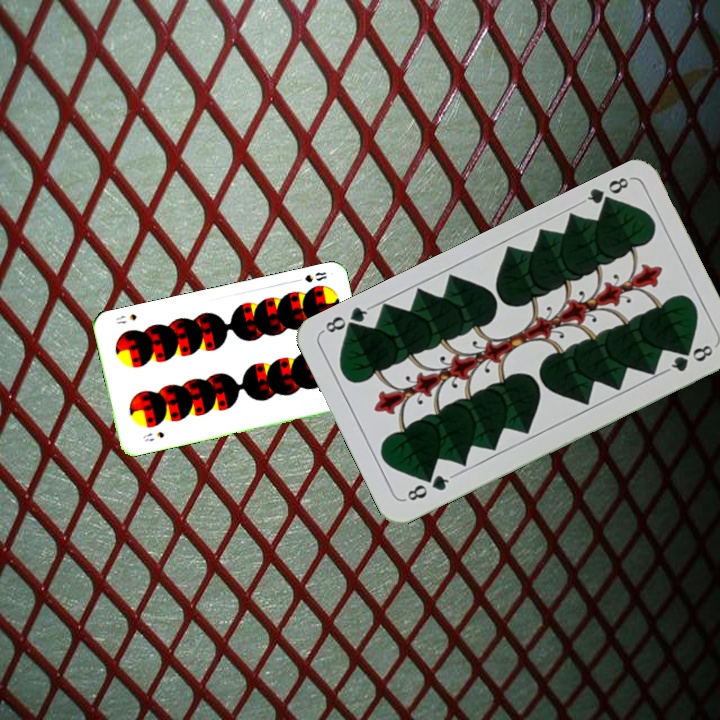G8: (578, 172, 633, 212), (400, 470, 456, 504)
S8: (290, 268, 329, 285), (139, 428, 167, 444)
